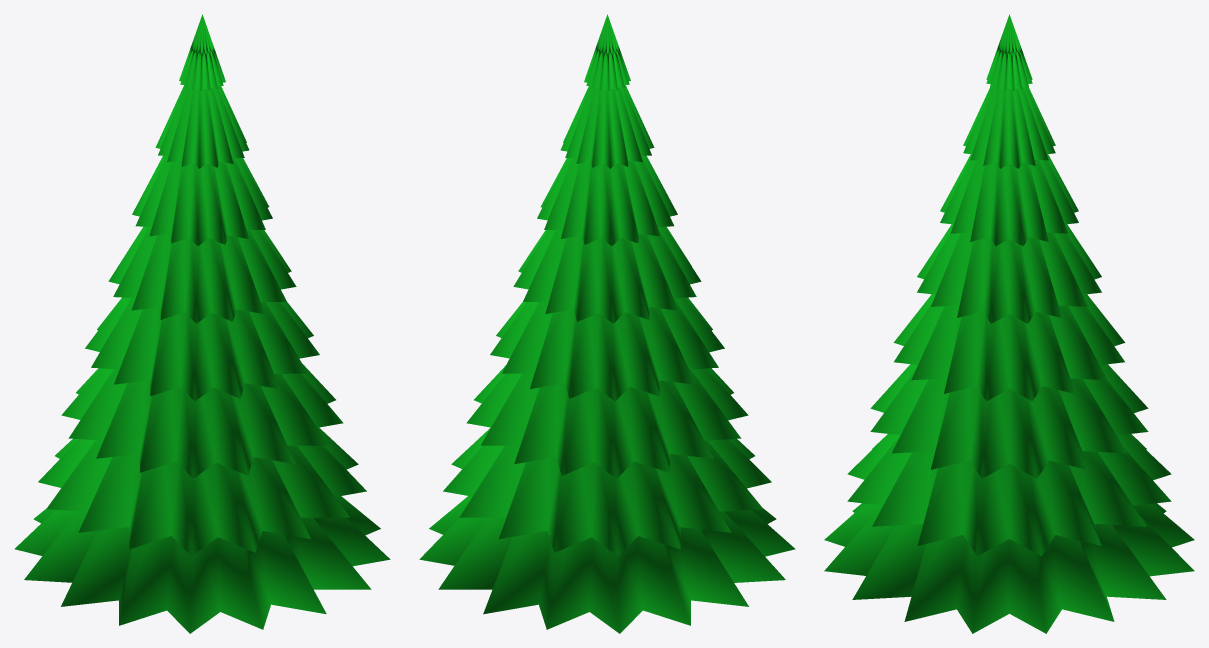
The model's file is Tree.fbx.
The picture shows the model from 3 angles, left to right: view 1: azimuth 30°, elevation 25°; view 2: azimuth 150°, elevation 25°; view 3: azimuth 270°, elevation 25°; orthographic projection.
Parts seen in each view (by area): view 1: Cylinder; view 2: Cylinder; view 3: Cylinder.
Part boxes in pixels (left/top/right/bottom): Cylinder: left=14, top=14, right=390, bottom=633; Cylinder: left=419, top=14, right=795, bottom=633; Cylinder: left=824, top=14, right=1194, bottom=633.
Size of the model in its own units: 3.12 by 3.12 by 5.02.
